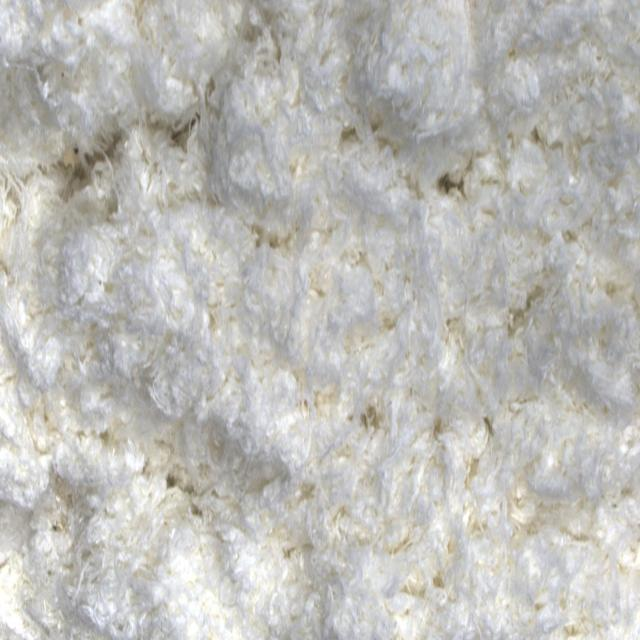dust: (49, 138, 112, 182)
